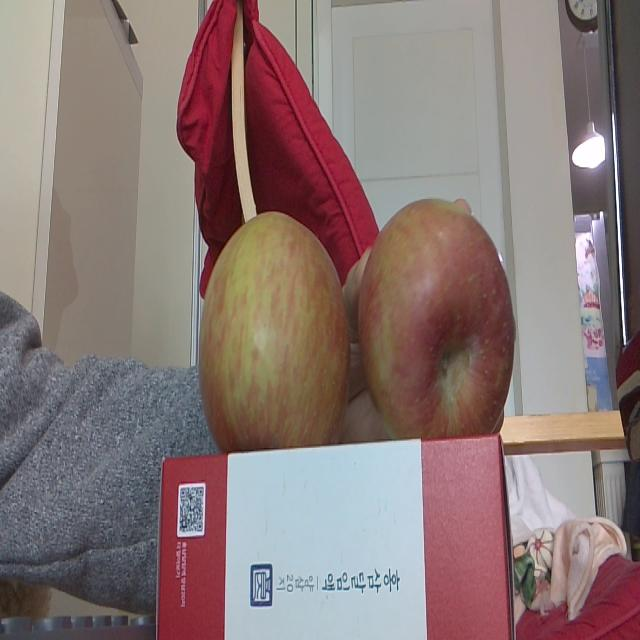apple: (360, 198, 516, 432), (198, 212, 348, 448)
